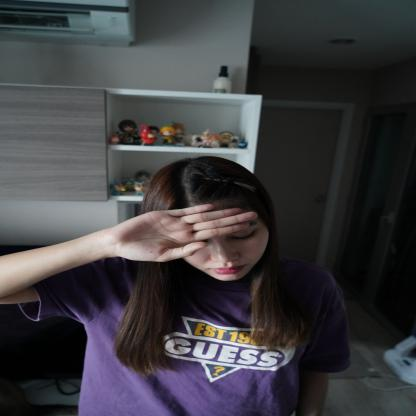Sick: (64, 201, 266, 266)
